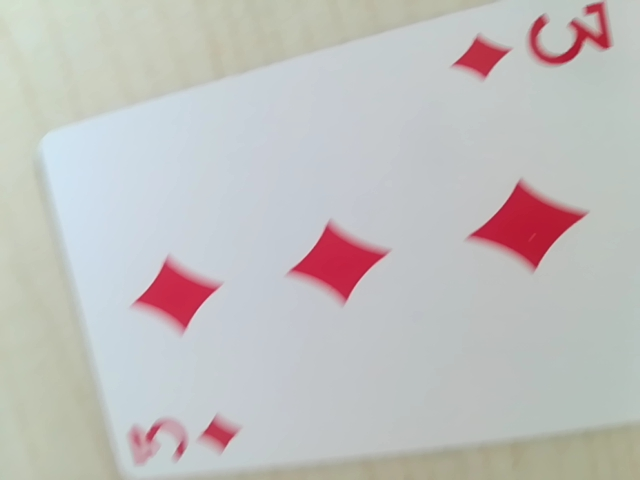fk 3: (447, 1, 623, 89)
